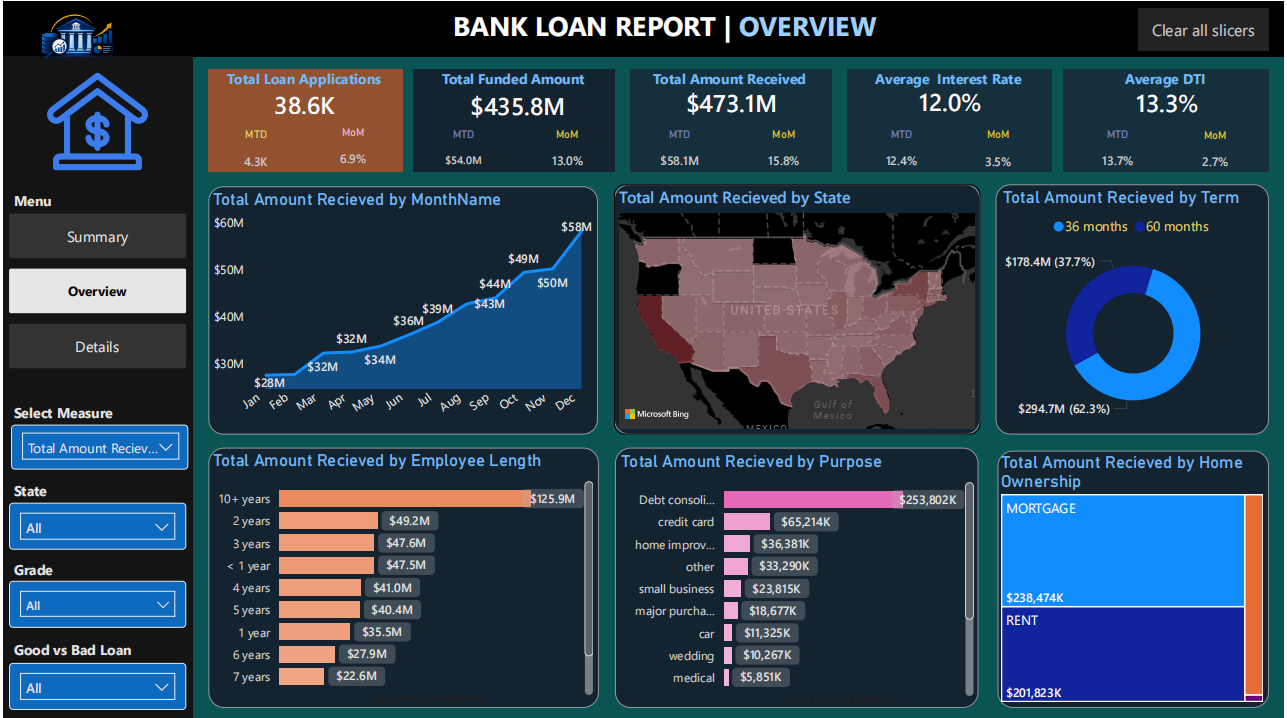

Layout of this report page (visuals, bound fields, positions):
{"tool":"powerbi","page":{"name":"Overview","canvas":[1280,720],"ordinal":1},"visuals":[{"type":"shape","box":[204.1,67.7,194.3,102],"z":0,"group":"g1"},{"type":"shape","box":[409.3,67.8,201.4,102.6],"z":0,"group":"g2"},{"type":"shape","box":[625.7,67.8,201.4,102.5],"z":0,"group":"g3"},{"type":"shape","box":[842.1,67.8,204.3,102.3],"z":0,"group":"g4"},{"type":"shape","box":[1058.5,67.8,205.7,102.5],"z":0,"group":"g5"},{"type":"shape","box":[205,185,388.8,247.5],"z":0},{"type":"slicer","fields":{"Values":["Banking_data.grade"]},"box":[6.2,578.9,177.3,46.8],"z":0,"group":"g9"},{"type":"shape","box":[0,0,1280,55],"z":1000},{"type":"cardVisual","fields":{"Data":["Banking_data.Total Amount Recieved"]},"box":[629,66.9,197.9,64.7],"z":1000,"group":"g3"},{"type":"cardVisual","fields":{"Data":["Banking_data.Average Interest Rate"]},"box":[845.4,66.9,200.7,64.6],"z":1000,"group":"g4"},{"type":"cardVisual","fields":{"Data":["Banking_data.Average DTI Ratio"]},"box":[1061.8,66.9,202.1,64.7],"z":1000,"group":"g5"},{"type":"cardVisual","fields":{"Data":["Banking_data.Total Funded Amount"]},"box":[415.3,70.2,197.9,64.8],"z":1000,"group":"g2"},{"type":"cardVisual","fields":{"Data":["Banking_data.Total Loan Applications"]},"box":[203.6,72.9,194.8,57],"z":1000,"group":"g1"},{"type":"textbox","box":[6.2,552.7,146.5,30.8],"z":1000,"group":"g9"},{"type":"shape","box":[0,55.3,189.4,664.7],"z":2000},{"type":"cardVisual","title":"MTD","fields":{"Data":["Banking_data.MTD Loan Application"]},"box":[203.6,126.7,98.1,58.7],"z":2000,"group":"g1"},{"type":"cardVisual","title":"MTD","fields":{"Data":["Banking_data.MTD Funded Amount"]},"box":[408.7,127,101.7,59],"z":2000,"group":"g2"},{"type":"cardVisual","title":"MTD","fields":{"Data":["Banking_data.MTD Amount Received"]},"box":[625.1,127,101.7,59],"z":2000,"group":"g3"},{"type":"textbox","box":[445.2,1.2,465.7,54.3],"z":3000},{"type":"cardVisual","title":"MoM","fields":{"Data":["Banking_data.MoM Loan Application"]},"box":[300.3,125.4,98.1,59.4],"z":3000,"group":"g1"},{"type":"cardVisual","title":"MoM","fields":{"Data":["Banking_data.MoM Funded Amount"]},"box":[513,126.9,101.7,59.7],"z":3000,"group":"g2"},{"type":"cardVisual","title":"MoM","fields":{"Data":["Banking_data.MoM Amount Received"]},"box":[729.4,127,101.7,59.7],"z":3000,"group":"g3"},{"type":"group","id":"g1","title":"Group 1","box":[203.6,63,194.8,122.4],"z":4000},{"type":"textbox","box":[203.6,63,194.8,29.1],"z":4000,"group":"g1"},{"type":"textbox","box":[408.7,63,202,29.3],"z":4000,"group":"g2"},{"type":"textbox","box":[625.1,63,202,29.2],"z":4000,"group":"g3"},{"type":"textbox","box":[841.5,63,204.8,29.2],"z":4000,"group":"g4"},{"type":"textbox","box":[1057.9,63,206.3,29.2],"z":4000,"group":"g5"},{"type":"group","id":"g2","title":"Group 1","box":[408.7,63,206.1,123.7],"z":5000},{"type":"group","id":"g3","title":"Group 1","box":[625.1,63,206.1,123.7],"z":6000},{"type":"group","id":"g4","title":"Group 1","box":[841.5,63,204.8,107.1],"z":6156,"group":"g6"},{"type":"group","id":"g5","title":"Group 1","box":[1057.9,63,206.3,107.3],"z":6156,"group":"g7"},{"type":"cardVisual","title":"MTD","fields":{"Data":["Banking_data.MTD Average Interest Rate"]},"box":[845.2,126.8,102.8,59.8],"z":6312,"group":"g6"},{"type":"cardVisual","title":"MTD","fields":{"Data":["Banking_data.MTD Average DTI Ratio"]},"box":[1061.6,127,103.5,60],"z":6312,"group":"g7"},{"type":"cardVisual","title":"MoM","fields":{"Data":["Banking_data.MoM Average Interest Rate"]},"box":[942.1,127.5,102.8,58.6],"z":6750,"group":"g6"},{"type":"cardVisual","title":"MoM","fields":{"Data":["Banking_data.MoM Average DTI Ratio"]},"box":[1159.2,127.6,103.5,58.7],"z":6750,"group":"g7"},{"type":"group","id":"g6","title":"Group 2","box":[841.5,63,206.1,123.7],"z":7000},{"type":"group","id":"g7","title":"Group 2","box":[1057.9,63,206,123.7],"z":8000},{"type":"textbox","box":[6.2,184.7,146.5,32],"z":9000},{"type":"group","id":"g8","title":"Group 3","box":[6.2,473.9,177.3,73.9],"z":10000},{"type":"group","id":"g9","title":"Group 4","box":[6.2,552.7,177.3,72.6],"z":11000},{"type":"group","id":"g10","title":"Group 5","box":[6.2,632.7,177.3,73.9],"z":12000},{"type":"pageNavigator","box":[6.2,211.7,177.3,157.6],"z":13000},{"type":"image","box":[25.9,70.2,136.6,99.7],"z":14000},{"type":"actionButton","box":[1133.8,7.4,130.5,41.9],"z":15000},{"type":"image","box":[10,10,126.8,57.9],"z":16000},{"type":"areaChart","fields":{"Y":["Banking_data.Total Amount Recieved"],"Category":["CalenderTable.MonthName"]},"box":[205,187.5,388.8,245],"z":17000},{"type":"group","id":"g11","title":"Group 6","box":[6.2,396.4,178.8,72.1],"z":18000},{"type":"slicer","fields":{"Values":["Needed Measures.Needed Measures"]},"box":[8,423.5,177,45],"z":18000,"group":"g11"},{"type":"shape","box":[610,182.5,366.2,250],"z":19000},{"type":"textbox","box":[6.2,396.4,146.5,30.8],"z":19000,"group":"g11"},{"type":"filledMap","fields":{"Category":["Banking_data.address_state"]},"box":[610,182.5,366.2,250],"z":20000},{"type":"shape","box":[991.2,182.5,272.5,250],"z":21000},{"type":"slicer","fields":{"Values":["Banking_data.Good vs Bad Loan Group"]},"box":[6.2,660.5,177.3,47],"z":21000,"group":"g10"},{"type":"donutChart","fields":{"Y":["Banking_data.Total Amount Recieved"],"Category":["Banking_data.term"]},"box":[993.8,186.2,268.8,241.2],"z":22000},{"type":"slicer","fields":{"Values":["Banking_data.address_state"]},"box":[6.2,500.6,177.3,46.8],"z":22000,"group":"g8"},{"type":"shape","box":[205,446.2,390,260],"z":23000},{"type":"textbox","box":[6.2,632.7,146.5,30.8],"z":23001,"group":"g10"},{"type":"textbox","box":[6.2,473.9,146.5,30.8],"z":23003,"group":"g8"},{"type":"shape","box":[611,446.2,363,260],"z":24000},{"type":"barChart","fields":{"Y":["Banking_data.Total Amount Recieved"],"Category":["Banking_data.emp_length"]},"box":[205,448,388.8,260],"z":25000},{"type":"shape","box":[992.5,448.8,271.2,257.5],"z":25500},{"type":"barChart","fields":{"Y":["Banking_data.Total Amount Recieved"],"Category":["Banking_data.purpose"]},"box":[612.5,448.8,361.2,260],"z":26000},{"type":"treemap","fields":{"Values":["Banking_data.Total Amount Recieved"],"Group":["Banking_data.home_ownership"]},"box":[992,450,271.2,255],"z":28000}]}

Visuals, with their boxes in screenshot pixels (x1, y1, x2, y2), scaled from the page's 1280x720 canvas onto the 1287x718 screenshot:
shape: box=[205, 68, 401, 169]
shape: box=[412, 68, 614, 170]
shape: box=[629, 68, 832, 170]
shape: box=[847, 68, 1052, 170]
shape: box=[1064, 68, 1271, 170]
shape: box=[206, 184, 597, 431]
slicer - Banking_data.grade: box=[6, 577, 185, 624]
shape: box=[0, 0, 1286, 55]
cardVisual - Banking_data.Total Amount Recieved: box=[632, 67, 831, 131]
cardVisual - Banking_data.Average Interest Rate: box=[850, 67, 1052, 131]
cardVisual - Banking_data.Average DTI Ratio: box=[1068, 67, 1271, 131]
cardVisual - Banking_data.Total Funded Amount: box=[418, 70, 617, 135]
cardVisual - Banking_data.Total Loan Applications: box=[205, 73, 401, 130]
textbox: box=[6, 551, 154, 582]
shape: box=[0, 55, 190, 717]
"MTD" cardVisual: box=[205, 126, 303, 185]
"MTD" cardVisual: box=[411, 127, 513, 185]
"MTD" cardVisual: box=[629, 127, 731, 185]
textbox: box=[448, 1, 916, 55]
"MoM" cardVisual: box=[302, 125, 401, 184]
"MoM" cardVisual: box=[516, 127, 618, 186]
"MoM" cardVisual: box=[733, 127, 836, 186]
"Group 1" group: box=[205, 63, 401, 185]
textbox: box=[205, 63, 401, 92]
textbox: box=[411, 63, 614, 92]
textbox: box=[629, 63, 832, 92]
textbox: box=[846, 63, 1052, 92]
textbox: box=[1064, 63, 1271, 92]
"Group 1" group: box=[411, 63, 618, 186]
"Group 1" group: box=[629, 63, 836, 186]
"Group 1" group: box=[846, 63, 1052, 170]
"Group 1" group: box=[1064, 63, 1271, 170]
"MTD" cardVisual: box=[850, 126, 953, 186]
"MTD" cardVisual: box=[1067, 127, 1171, 186]
"MoM" cardVisual: box=[947, 127, 1051, 186]
"MoM" cardVisual: box=[1166, 127, 1270, 186]
"Group 2" group: box=[846, 63, 1053, 186]
"Group 2" group: box=[1064, 63, 1271, 186]
textbox: box=[6, 184, 154, 216]
"Group 3" group: box=[6, 473, 185, 546]
"Group 4" group: box=[6, 551, 185, 624]
"Group 5" group: box=[6, 631, 185, 705]
pageNavigator: box=[6, 211, 185, 368]
image: box=[26, 70, 163, 169]
actionButton: box=[1140, 7, 1271, 49]
image: box=[10, 10, 138, 68]
areaChart - Banking_data.Total Amount Recieved x CalenderTable.MonthName: box=[206, 187, 597, 431]
"Group 6" group: box=[6, 395, 186, 467]
slicer - Needed Measures.Needed Measures: box=[8, 422, 186, 467]
shape: box=[613, 182, 982, 431]
textbox: box=[6, 395, 154, 426]
filledMap - Banking_data.address_state: box=[613, 182, 982, 431]
shape: box=[997, 182, 1271, 431]
slicer - Banking_data.Good vs Bad Loan Group: box=[6, 659, 185, 706]
donutChart - Banking_data.Total Amount Recieved x Banking_data.term: box=[999, 186, 1270, 426]
slicer - Banking_data.address_state: box=[6, 499, 185, 546]
shape: box=[206, 445, 598, 704]
textbox: box=[6, 631, 154, 662]
textbox: box=[6, 473, 154, 503]
shape: box=[614, 445, 979, 704]
barChart - Banking_data.Total Amount Recieved x Banking_data.emp_length: box=[206, 447, 597, 706]
shape: box=[998, 448, 1271, 704]
barChart - Banking_data.Total Amount Recieved x Banking_data.purpose: box=[616, 448, 979, 707]
treemap - Banking_data.Total Amount Recieved x Banking_data.home_ownership: box=[997, 449, 1270, 703]
